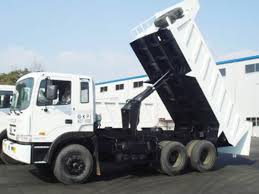truck: (2, 1, 251, 183)
